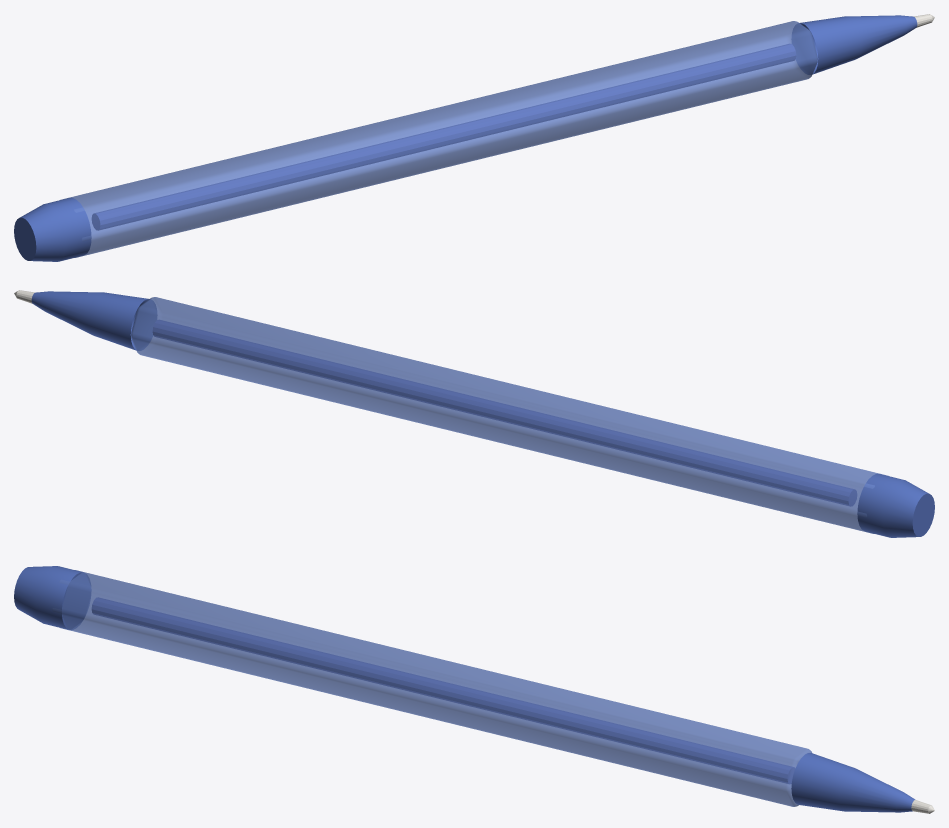
The model's file is pen.glb.
3 views of the same model, one above another, from view 1: azimuth 30°, elevation 25°; view 2: azimuth 150°, elevation 25°; view 3: azimuth 330°, elevation 25° (orthographic).
Visible parts, largest first — view 1: Pen; view 2: Pen; view 3: Pen.
Boxes of the visible parts, x1=… form: Pen: x1=14, y1=14, x2=934, y2=261; Pen: x1=14, y1=290, x2=934, y2=537; Pen: x1=14, y1=566, x2=934, y2=813.
Bounding box in the file's own units: 1.41 × 0.08 × 0.0809.
